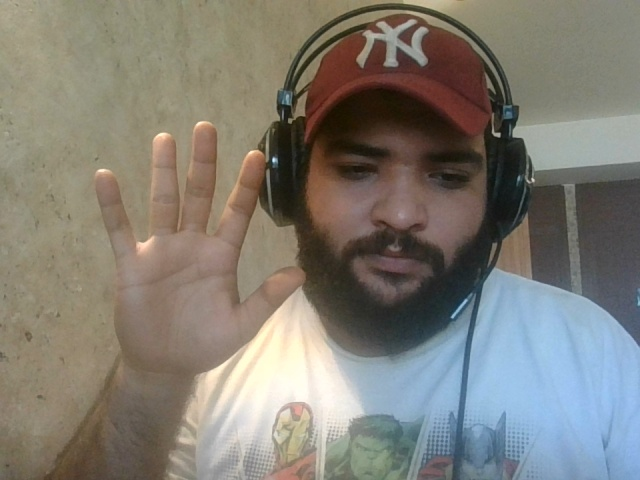hello: (80, 109, 313, 382)
